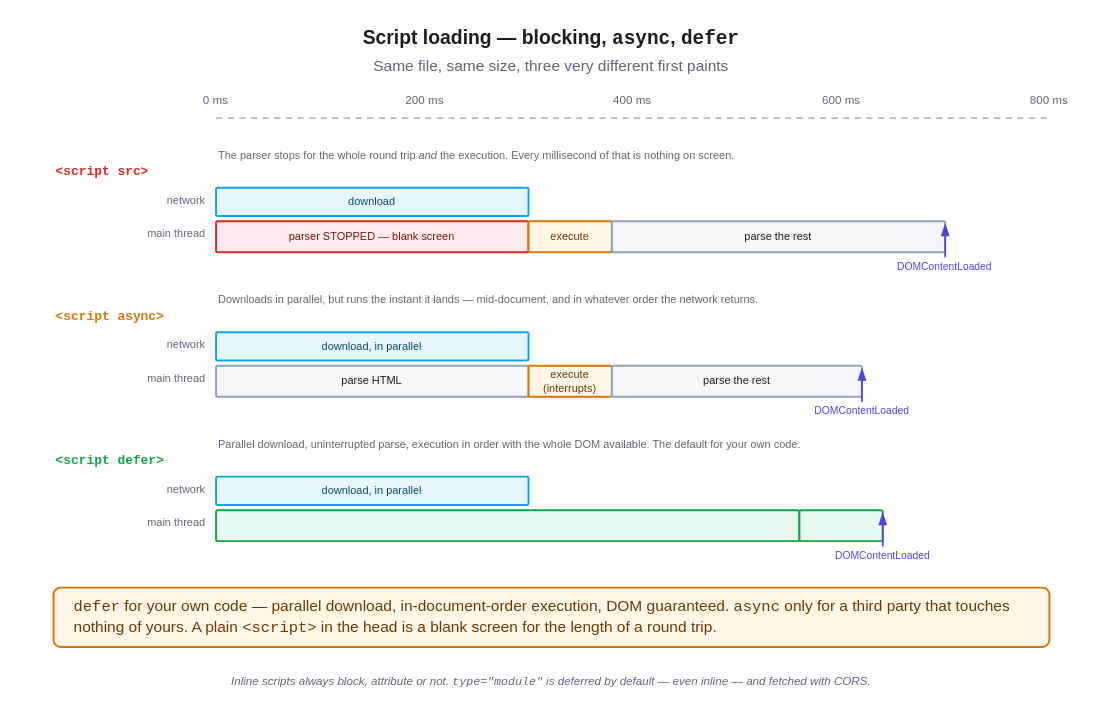
Image size: 1109x720. Some labels were removed from this diagram. The shapes that lost their labels are listed below. From the top down, each one's box as (x1, y1, x2, y2) in pixels, then its label:
(215, 509, 800, 542): parse HTML — never interrupted
(798, 509, 883, 542): execute, in order
